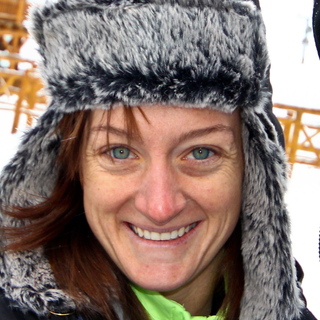eye: (95, 142, 147, 166), (176, 142, 227, 165)
